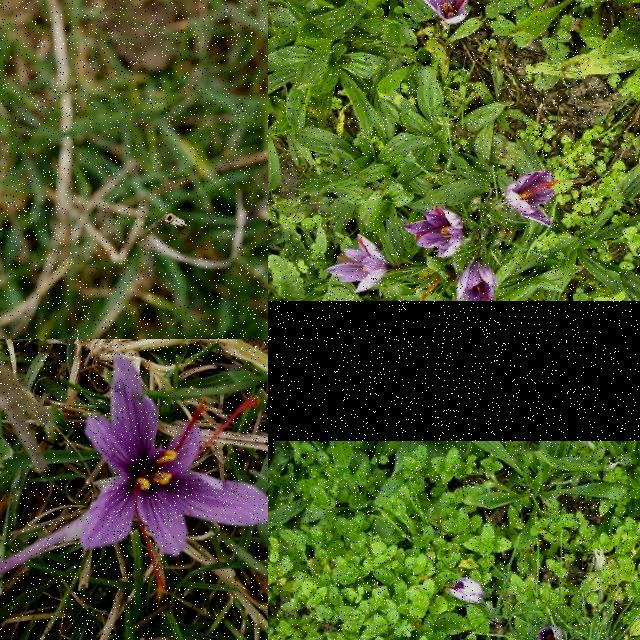flower: (77, 349, 268, 596), (325, 234, 391, 294), (404, 207, 468, 259), (504, 170, 558, 227), (456, 259, 496, 301), (421, 0, 476, 23), (444, 578, 482, 604), (537, 627, 562, 640)
